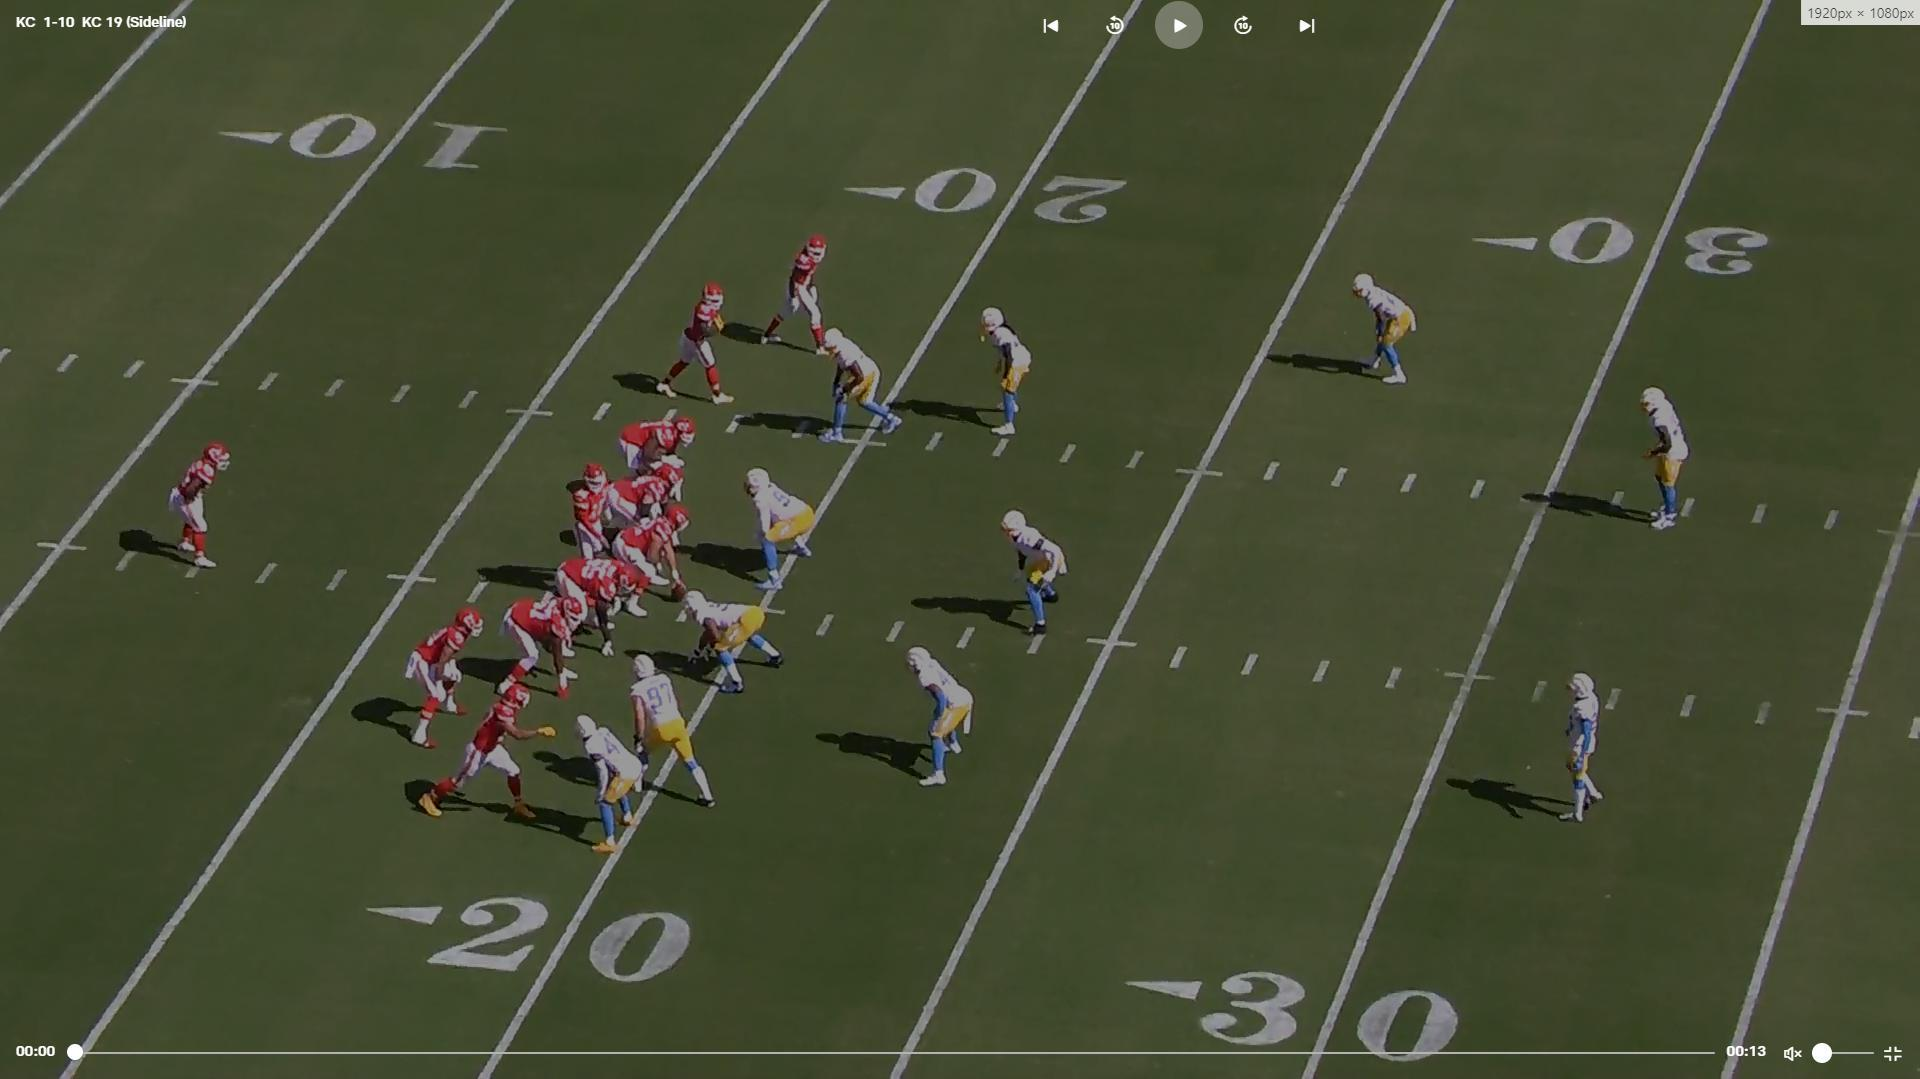defense: (626, 651, 717, 809), (675, 583, 787, 697), (899, 646, 973, 797), (813, 322, 903, 445), (571, 716, 642, 858), (741, 467, 818, 595), (1003, 507, 1069, 644), (1643, 387, 1697, 540), (1563, 672, 1613, 833), (982, 306, 1041, 442), (1351, 268, 1415, 391)
oline: (504, 592, 587, 698), (612, 513, 688, 623), (553, 555, 625, 653), (618, 415, 693, 479), (615, 459, 687, 515)
qb: (566, 466, 613, 562)
skill: (417, 674, 537, 822), (406, 606, 484, 749), (653, 280, 735, 412), (768, 228, 842, 352), (172, 438, 235, 572)
